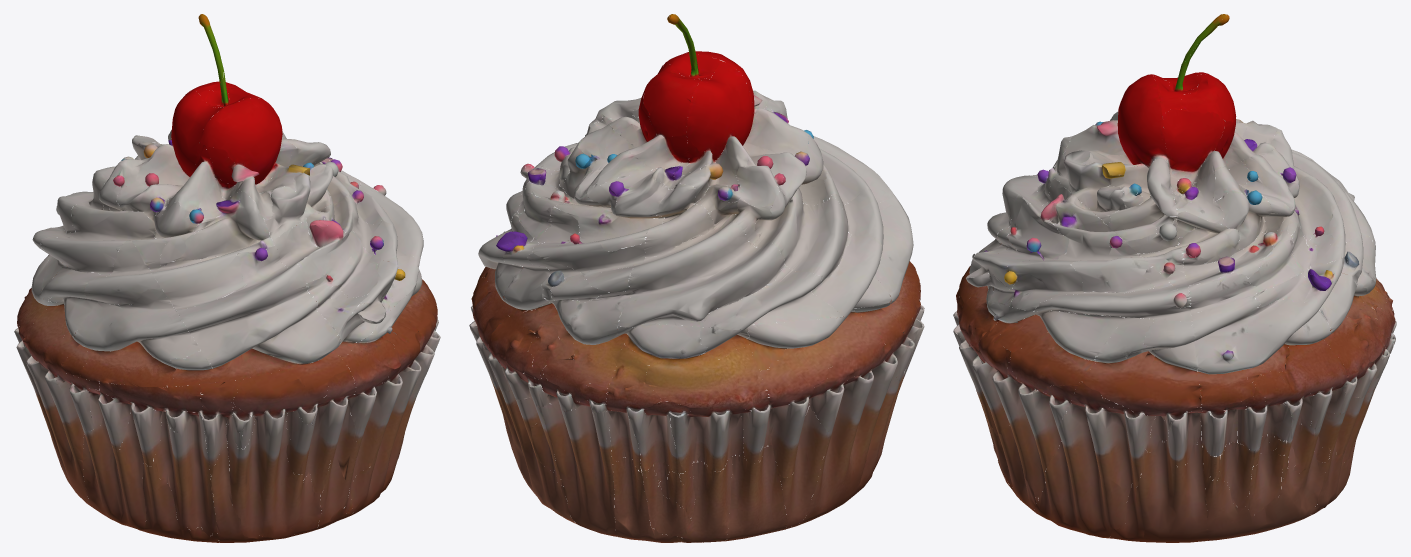
File: cupcake.glb
The picture shows the model from 3 angles, left to right: view 1: azimuth 30°, elevation 25°; view 2: azimuth 150°, elevation 25°; view 3: azimuth 270°, elevation 25°; orthographic projection. The views are drawn at different scales.
Visible parts, largest first — view 1: tripo_node_ea189a29-b76d-4c5e-a354-aa849eec8cd8; view 2: tripo_node_ea189a29-b76d-4c5e-a354-aa849eec8cd8; view 3: tripo_node_ea189a29-b76d-4c5e-a354-aa849eec8cd8.
Part boxes in pixels (left/top/right/bottom): tripo_node_ea189a29-b76d-4c5e-a354-aa849eec8cd8: left=14, top=14, right=440, bottom=542; tripo_node_ea189a29-b76d-4c5e-a354-aa849eec8cd8: left=469, top=14, right=924, bottom=542; tripo_node_ea189a29-b76d-4c5e-a354-aa849eec8cd8: left=953, top=14, right=1396, bottom=542.
Size of the model in its own units: 0.8639 by 1 by 0.8679.
Materials: 1 (1 with a texture image).
